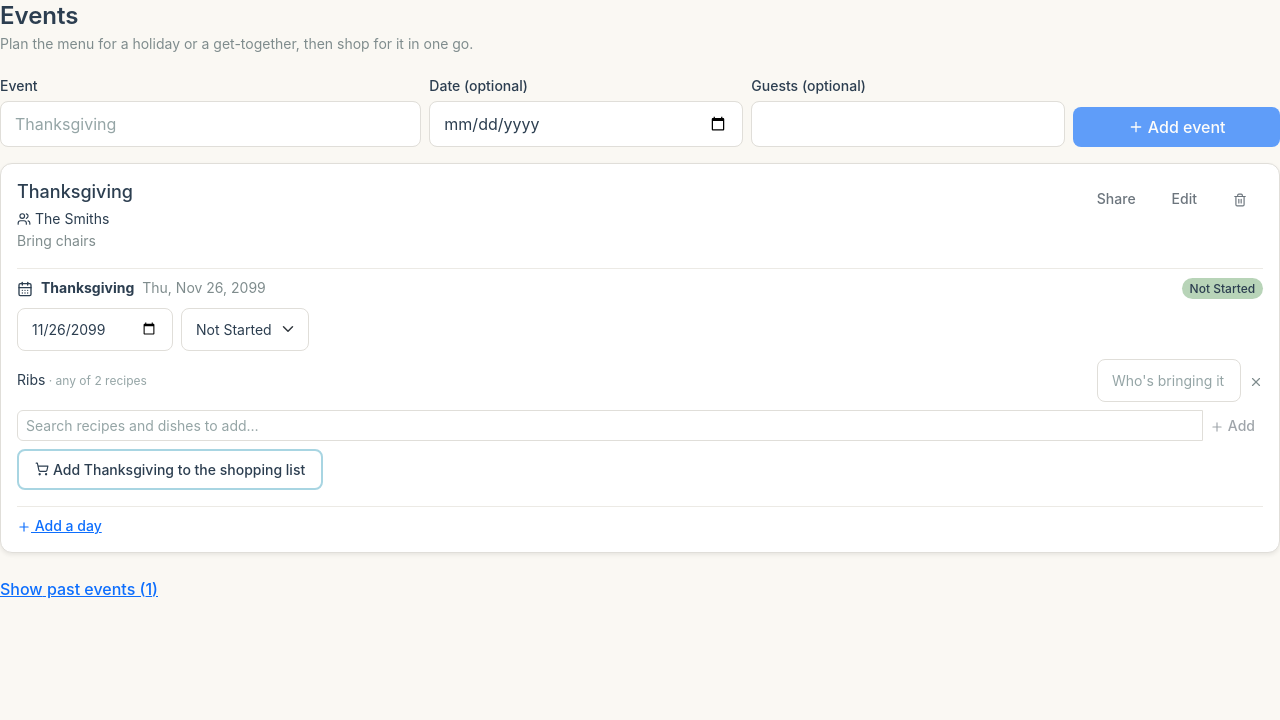
it: lists upcoming events with their guests, notes and menu, and hides past ones
Expected: the text "The Smiths" is shown, [17,210,109,227]
Expected: the text "Bring chairs" is shown, [17,232,96,249]
Click the button "Show past events (1)". click: [79, 589]
box: [0,569,158,609]
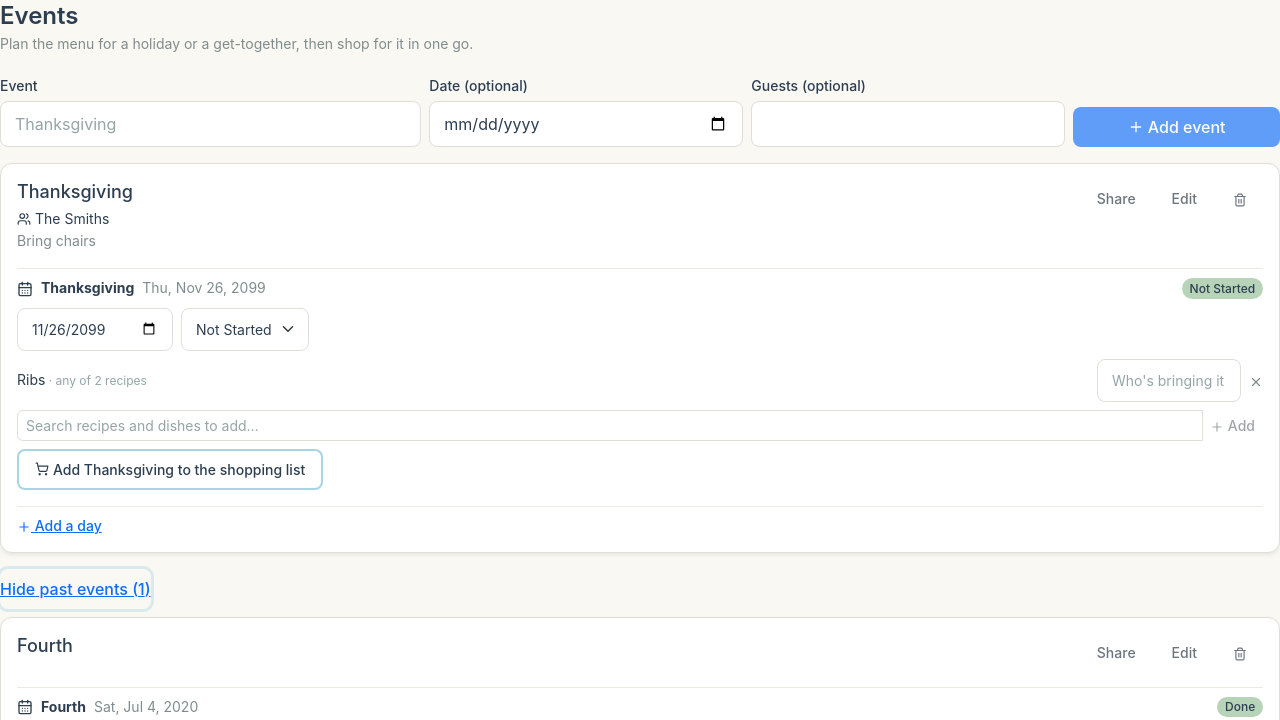
Expected: the heading "Fourth" is shown, [17,634,73,657]
